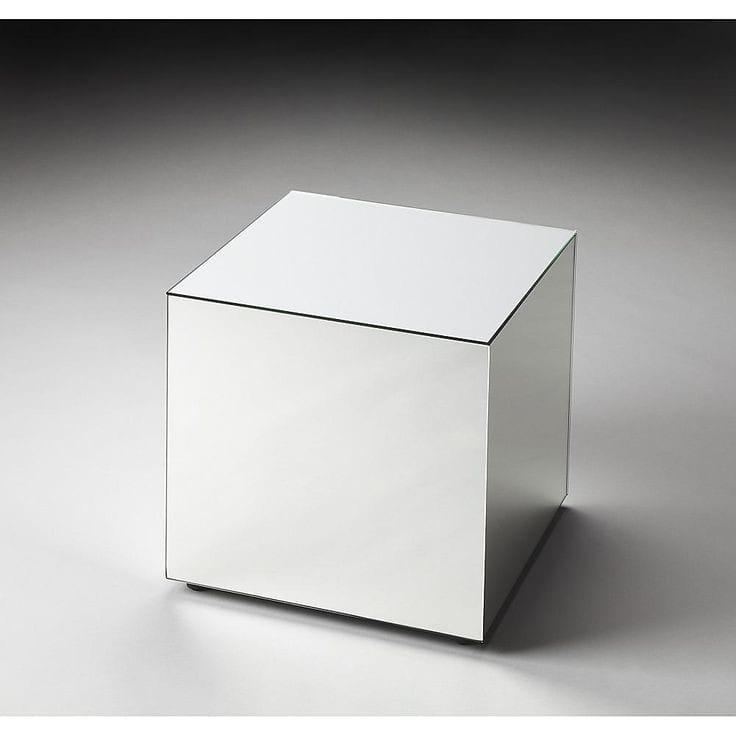cubos: (143, 178, 630, 667)
